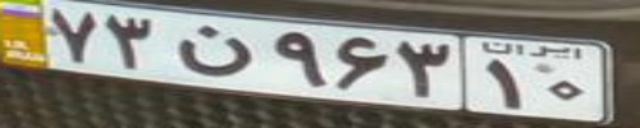0: (542, 79, 586, 101)
1: (483, 59, 522, 109)
3: (395, 42, 450, 98), (103, 13, 156, 68)
6: (332, 37, 385, 89)
7: (46, 9, 96, 63)
9: (270, 31, 325, 87)
non: (172, 24, 252, 76)
